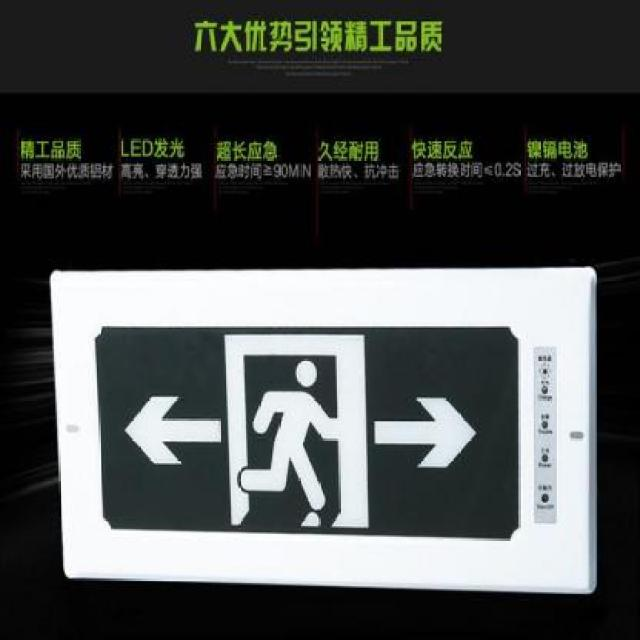exit_sign: (39, 258, 592, 597)
